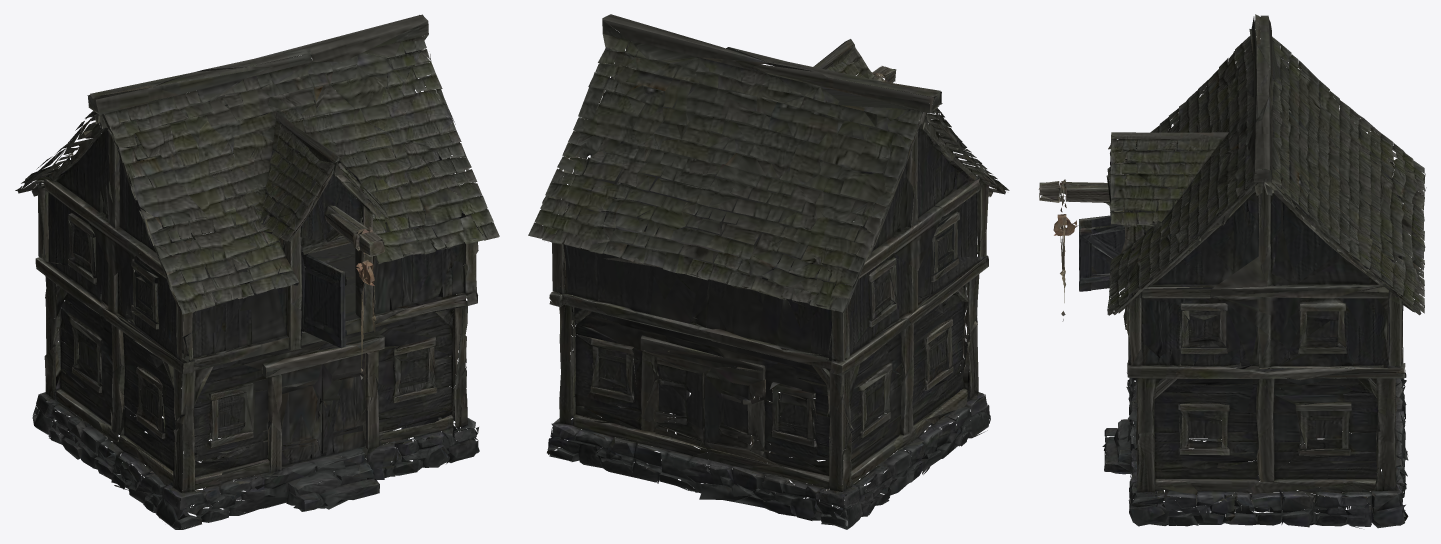
The model's file is store.glb.
3 renders of one model, left to right at view 1: azimuth 30°, elevation 25°; view 2: azimuth 150°, elevation 25°; view 3: azimuth 270°, elevation 25°, orthographic. The views are drawn at different scales.
Parts seen in each view (by area): view 1: Mesh_0; view 2: Mesh_0; view 3: Mesh_0.
Part boxes in pixels (left/top/right/bottom): Mesh_0: left=15, top=14, right=499, bottom=529; Mesh_0: left=528, top=14, right=1009, bottom=529; Mesh_0: left=1038, top=14, right=1426, bottom=528.
Size of the model in its own units: 6.24 by 7 by 6.66.
Materials: 1 (1 with a texture image).
